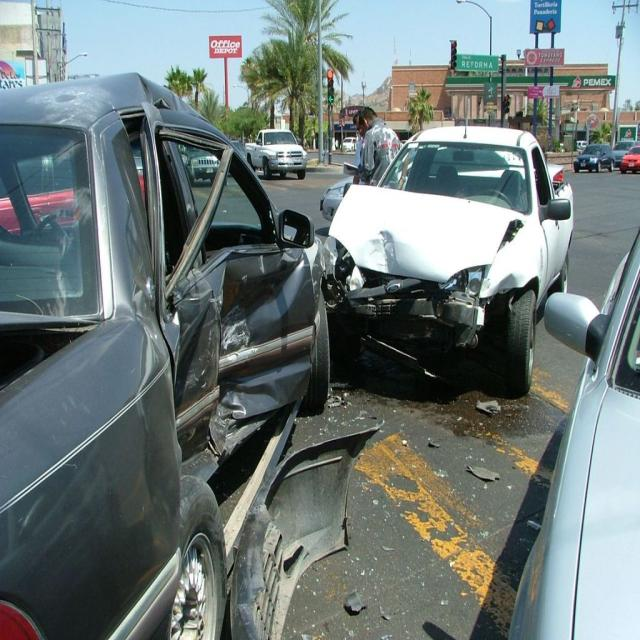car: (573, 143, 615, 172)
